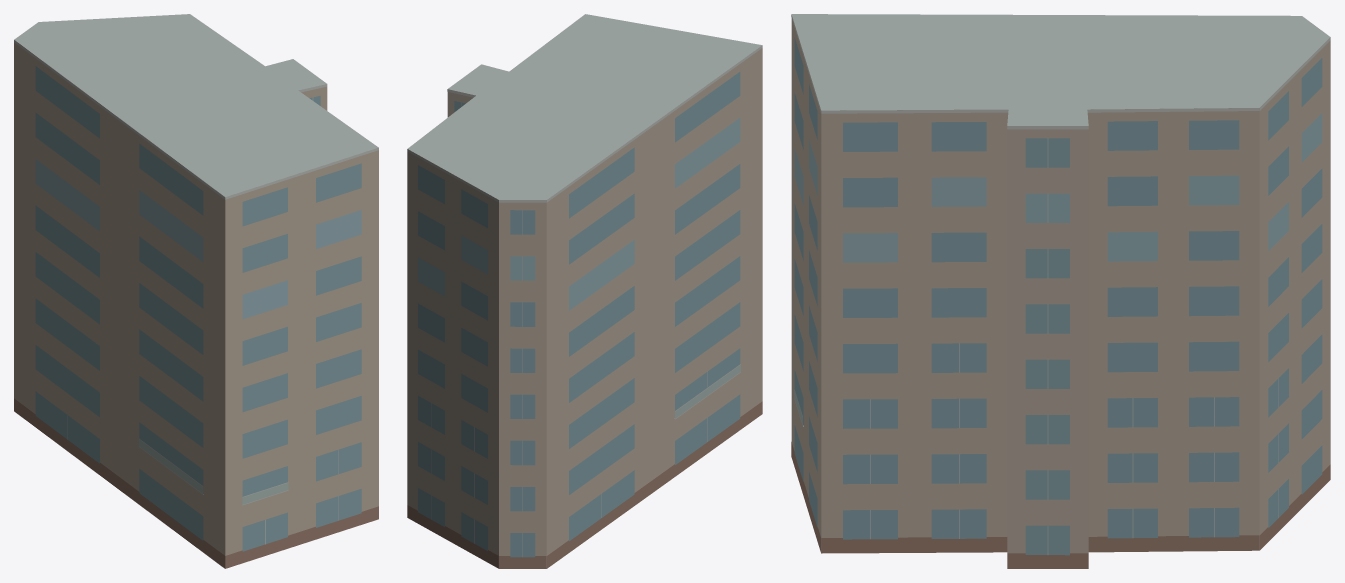
File: survey-upis-32648079.glb
The picture shows the model from 3 angles, left to right: view 1: azimuth 30°, elevation 25°; view 2: azimuth 150°, elevation 25°; view 3: azimuth 270°, elevation 25°; orthographic projection. The views are drawn at different scales.
Parts seen in each view (by area): view 1: survey-upis-32648079.tmp; view 2: survey-upis-32648079.tmp; view 3: survey-upis-32648079.tmp.
Boxes of the visible parts, x1=… form: survey-upis-32648079.tmp: x1=14, y1=14, x2=378, y2=568; survey-upis-32648079.tmp: x1=407, y1=14, x2=762, y2=568; survey-upis-32648079.tmp: x1=791, y1=14, x2=1330, y2=568.
Bounding box in the file's own units: 18.85 × 34.7 × 38.29.
